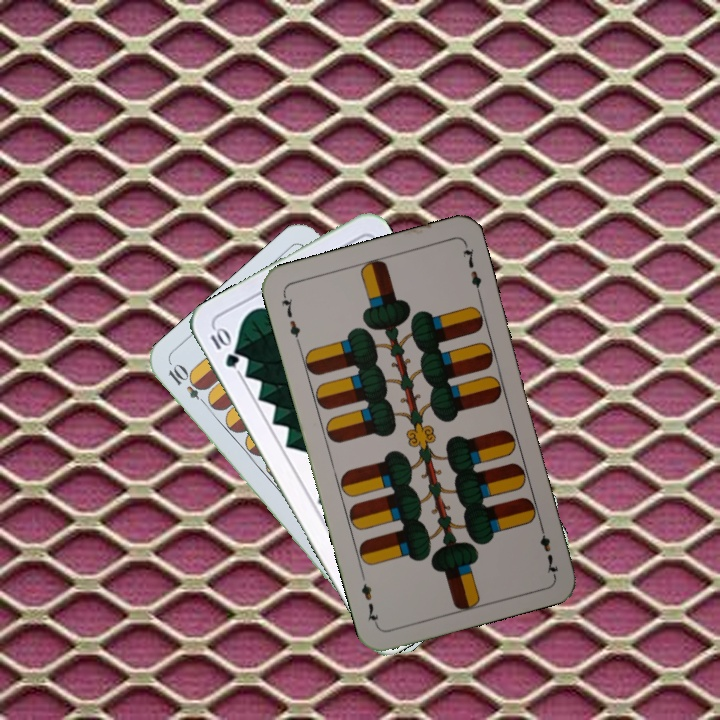E10: (164, 360, 213, 410)
E7: (277, 289, 303, 347), (535, 519, 561, 577)
G10: (206, 323, 242, 371)
